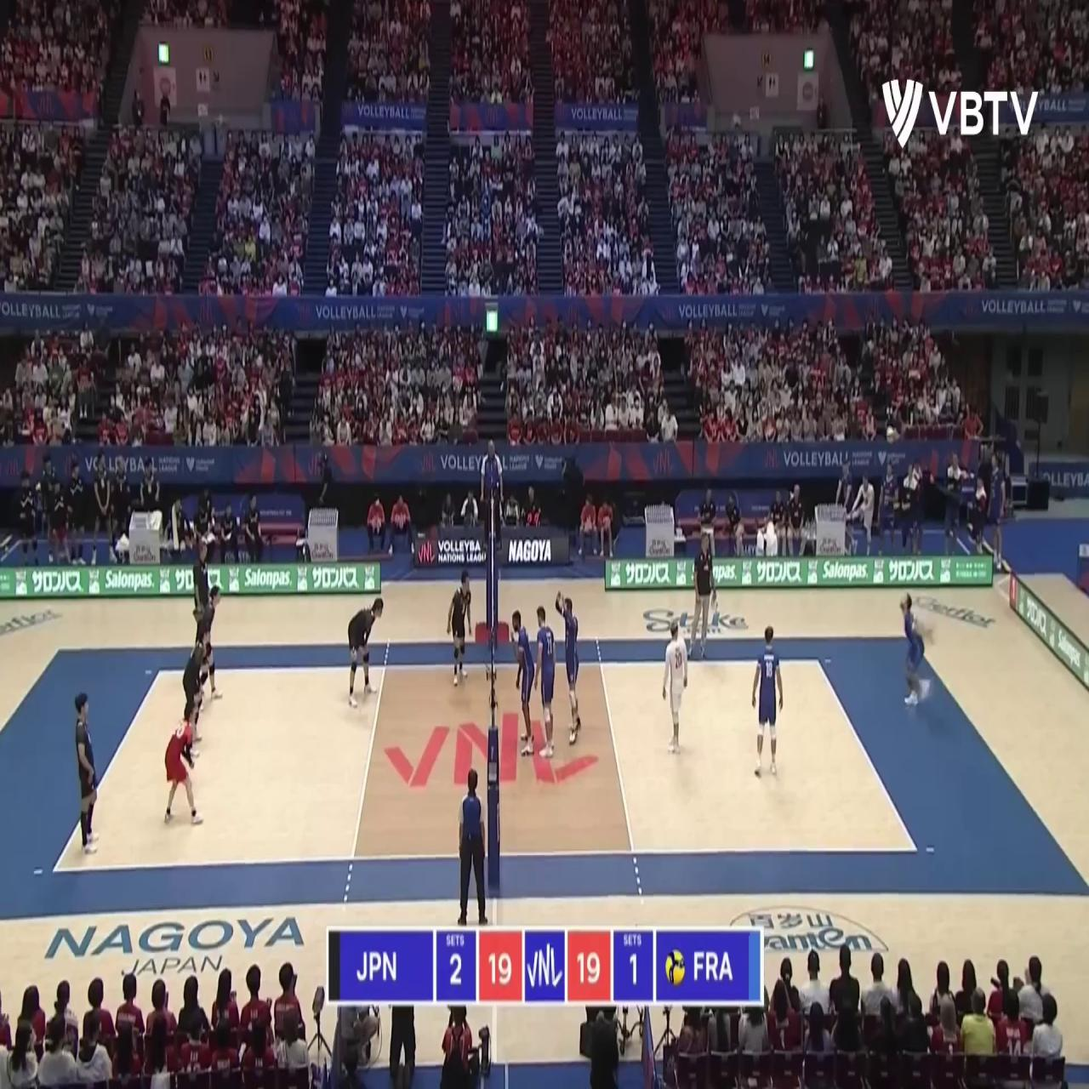ball: (886, 426, 896, 445)
